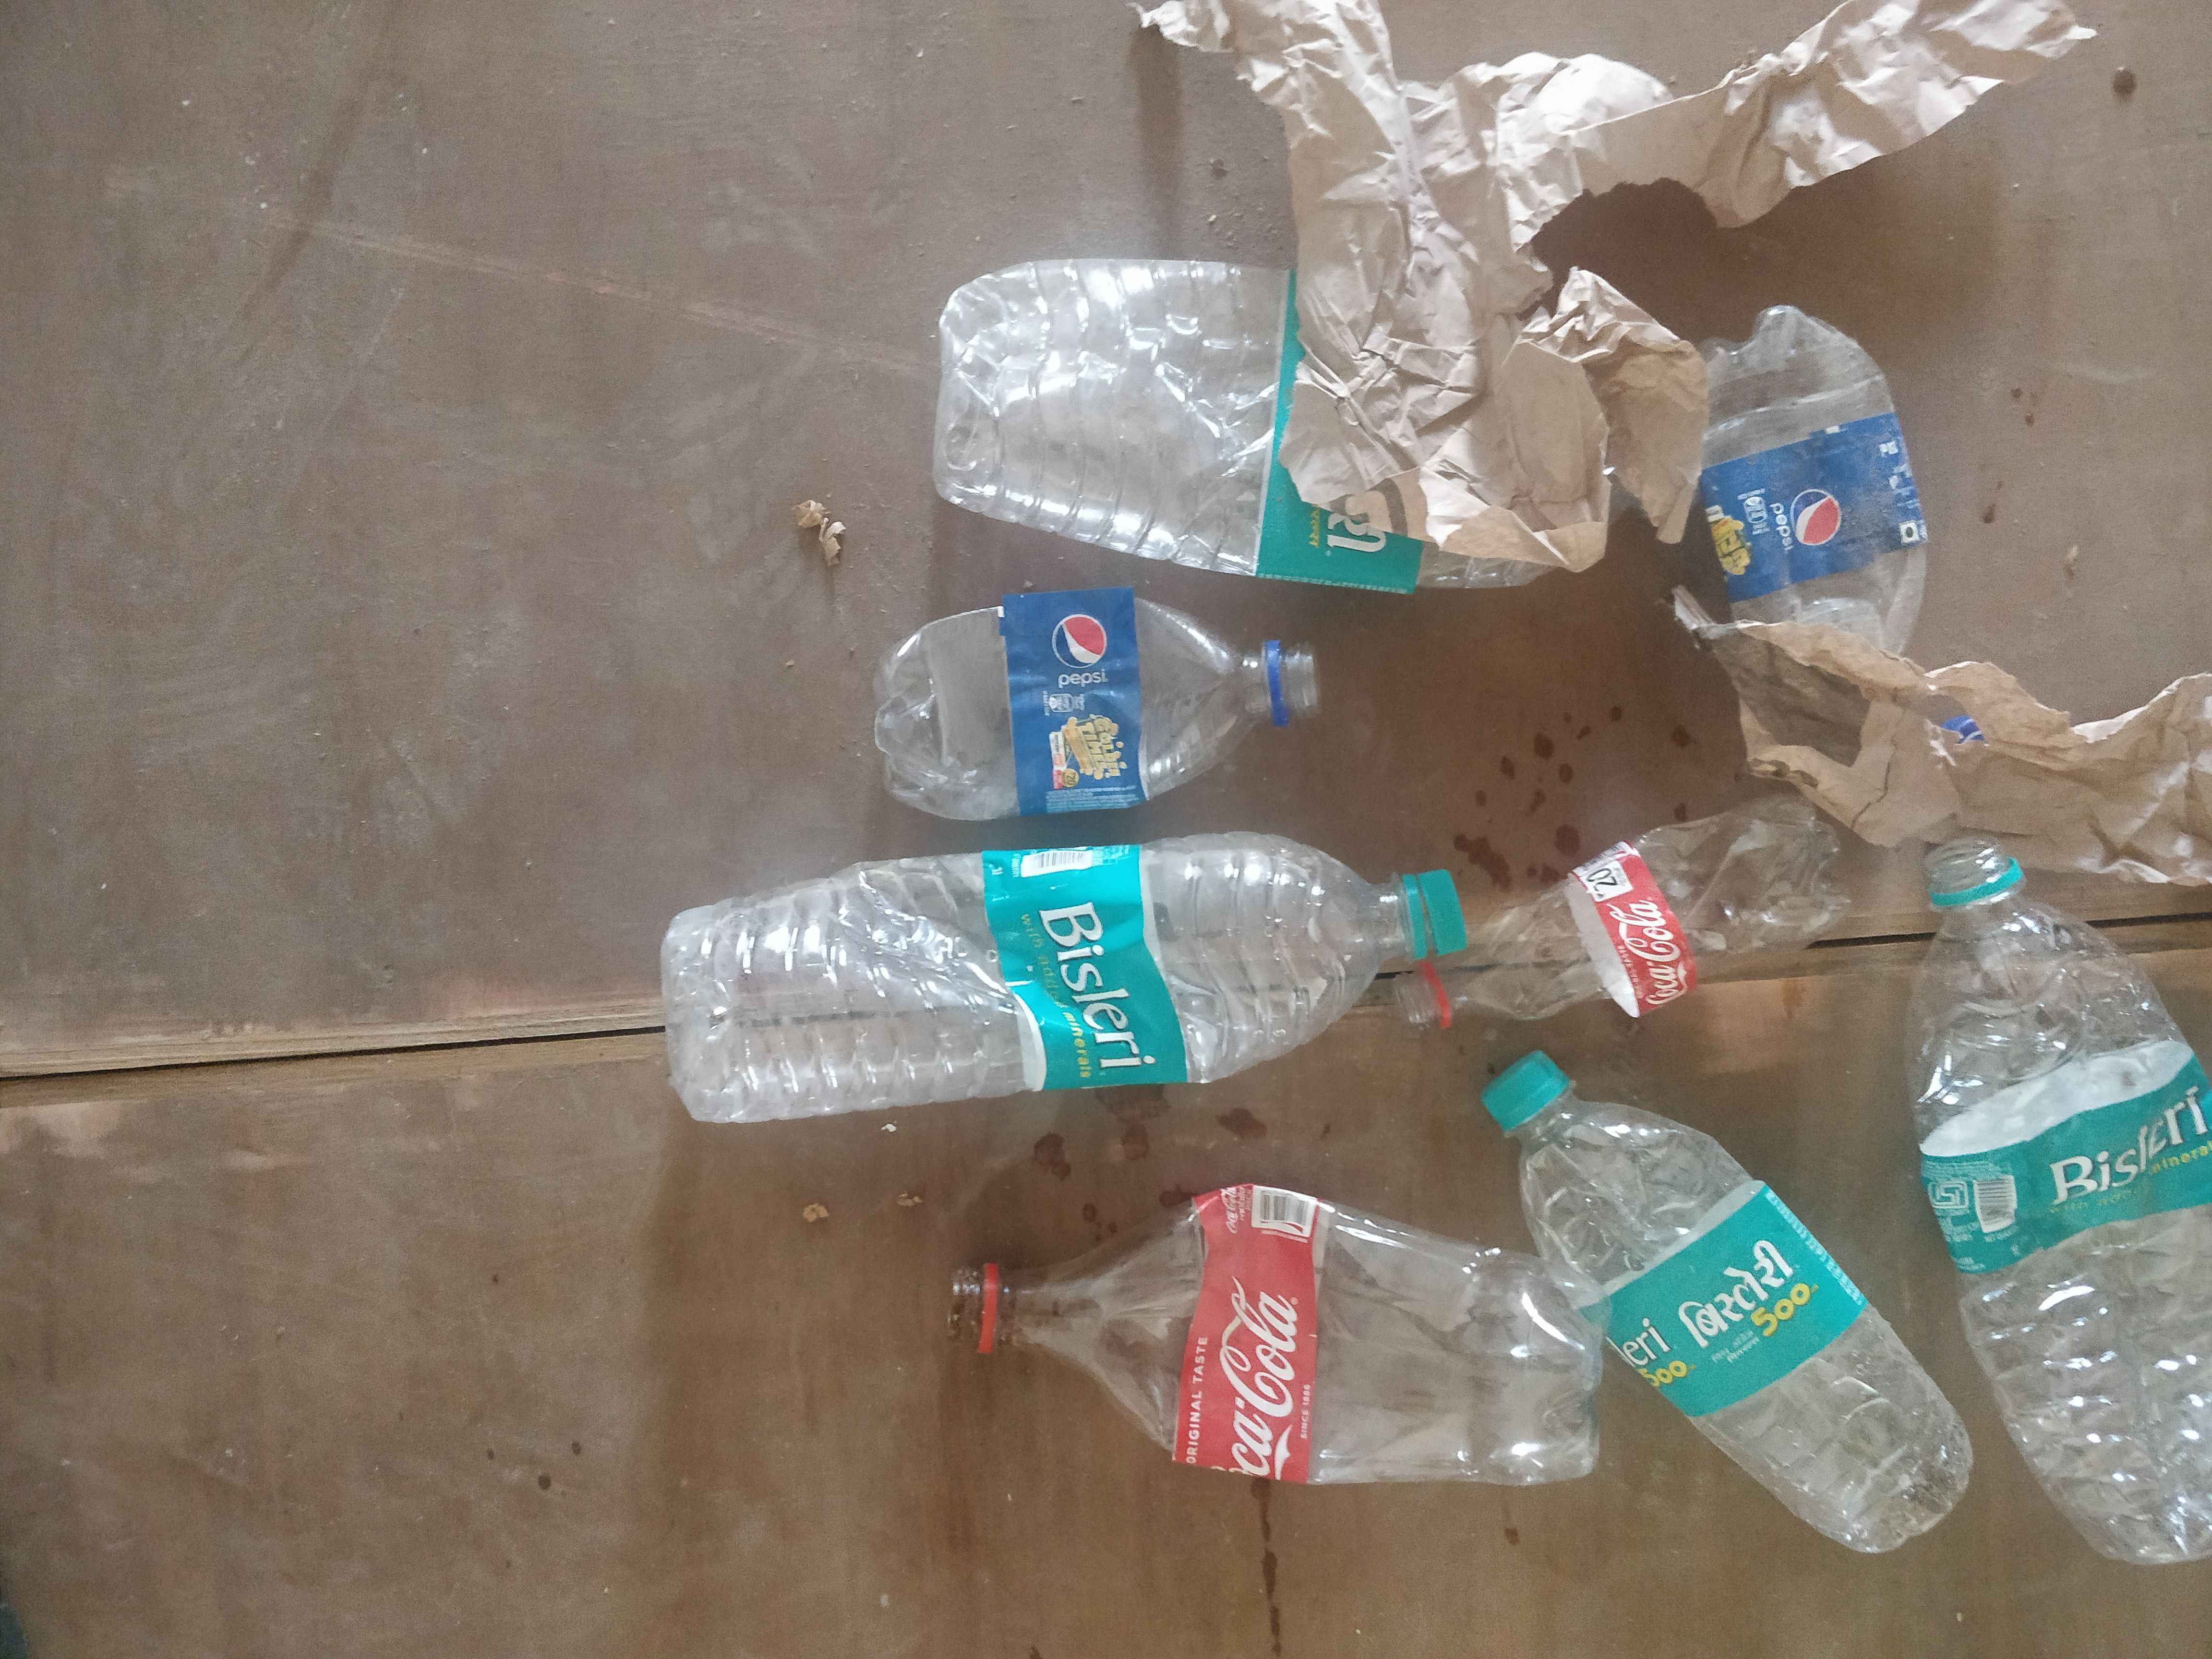Bisleri: (1965, 1105, 2212, 1265), (1019, 845, 1169, 1087), (1616, 1232, 1815, 1408), (1258, 479, 1420, 579)
Coca-Cola: (1198, 1199, 1308, 1478), (1611, 871, 1689, 1014)
pepsi: (1707, 446, 1905, 598), (1033, 596, 1137, 803)
